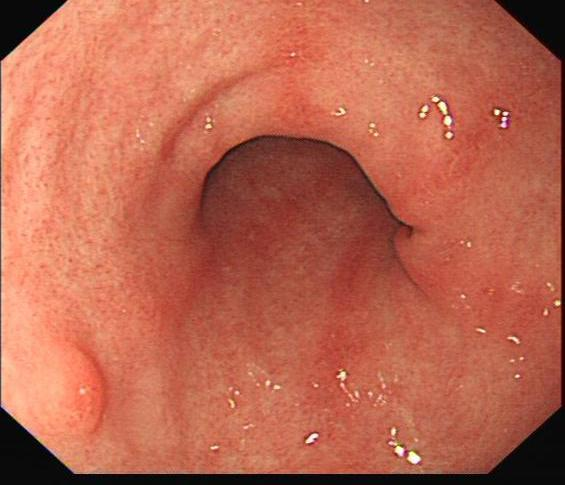Polyp: (38, 345, 106, 435)
